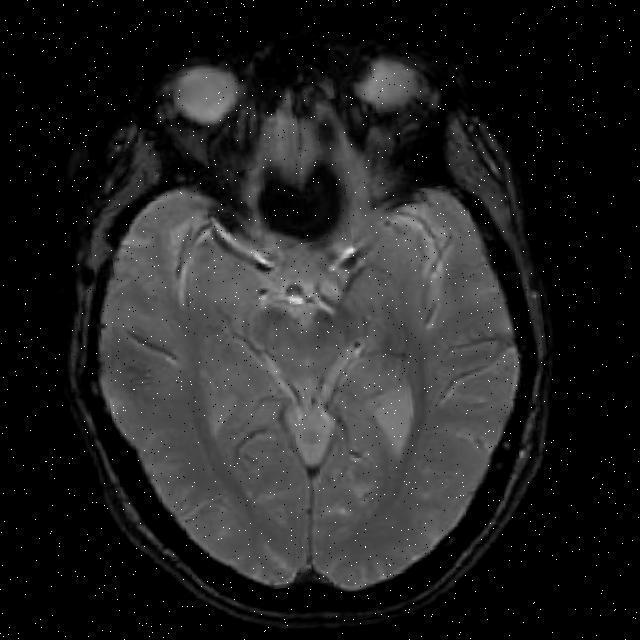MCI: (244, 126, 370, 260)
